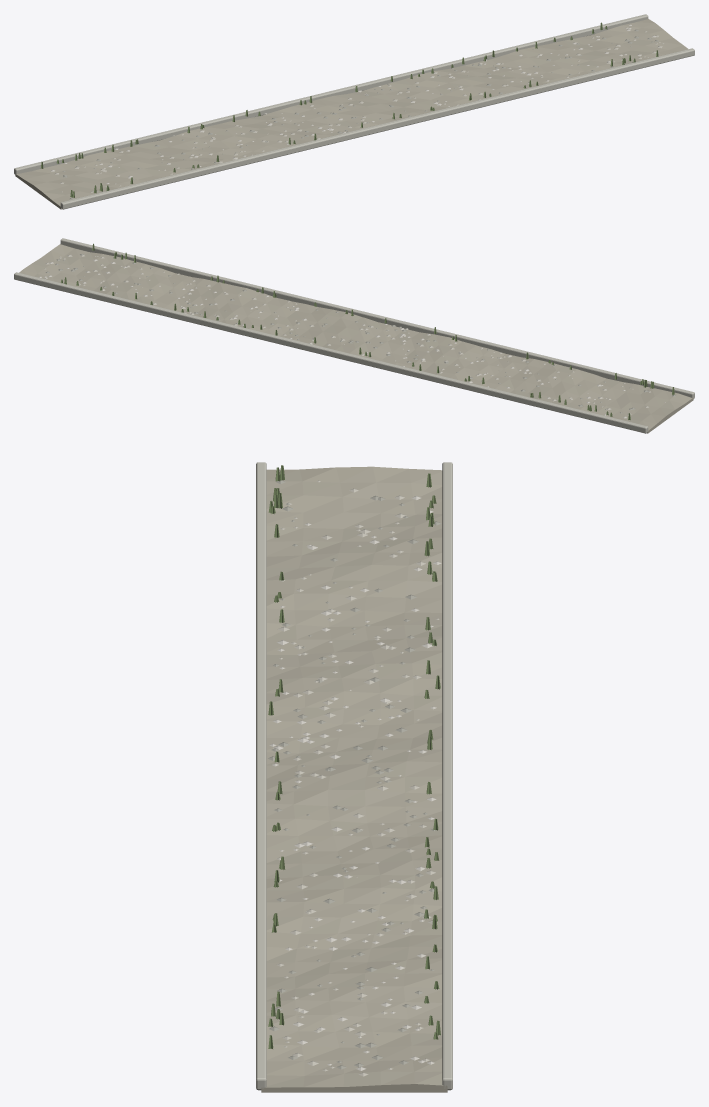
File: r6b2b-sciezka-zwirowa-12m.glb
3 views of the same model, one above another, from view 1: azimuth 30°, elevation 25°; view 2: azimuth 150°, elevation 25°; view 3: azimuth 270°, elevation 25° (orthographic). The views are drawn at different scales.
Visible parts, largest first — view 1: Sciezka zwirowa 12 m R6b2b Mial kamienny, Sciezka zwirowa 12 m R6b2b Obrzeze piaskowe, Sciezka zwirowa 12 m R6b2b Trawa w fugach, Sciezka zwirowa 12 m R6b2b Zwirek 0, Sciezka zwirowa 12 m R6b2b Zwirek 1, Sciezka zwirowa 12 m R6b2b Zwirek 2; view 2: Sciezka zwirowa 12 m R6b2b Mial kamienny, Sciezka zwirowa 12 m R6b2b Obrzeze piaskowe, Sciezka zwirowa 12 m R6b2b Trawa w fugach, Sciezka zwirowa 12 m R6b2b Zwirek 0, Sciezka zwirowa 12 m R6b2b Zwirek 1, Sciezka zwirowa 12 m R6b2b Zwirek 2; view 3: Sciezka zwirowa 12 m R6b2b Mial kamienny, Sciezka zwirowa 12 m R6b2b Obrzeze piaskowe, Sciezka zwirowa 12 m R6b2b Trawa w fugach, Sciezka zwirowa 12 m R6b2b Zwirek 1, Sciezka zwirowa 12 m R6b2b Zwirek 0, Sciezka zwirowa 12 m R6b2b Zwirek 2.
Boxes of the visible parts, bbox=[...] form: Sciezka zwirowa 12 m R6b2b Mial kamienny: bbox=[15, 19, 688, 209]; Sciezka zwirowa 12 m R6b2b Obrzeze piaskowe: bbox=[14, 14, 694, 209]; Sciezka zwirowa 12 m R6b2b Trawa w fugach: bbox=[40, 22, 658, 197]; Sciezka zwirowa 12 m R6b2b Zwirek 0: bbox=[55, 27, 663, 192]; Sciezka zwirowa 12 m R6b2b Zwirek 1: bbox=[62, 29, 659, 199]; Sciezka zwirowa 12 m R6b2b Zwirek 2: bbox=[51, 24, 657, 183]; Sciezka zwirowa 12 m R6b2b Mial kamienny: bbox=[19, 244, 693, 433]; Sciezka zwirowa 12 m R6b2b Obrzeze piaskowe: bbox=[14, 238, 694, 433]; Sciezka zwirowa 12 m R6b2b Trawa w fugach: bbox=[61, 243, 674, 419]; Sciezka zwirowa 12 m R6b2b Zwirek 0: bbox=[44, 254, 665, 415]; Sciezka zwirowa 12 m R6b2b Zwirek 1: bbox=[45, 254, 675, 413]; Sciezka zwirowa 12 m R6b2b Zwirek 2: bbox=[39, 258, 626, 418]; Sciezka zwirowa 12 m R6b2b Mial kamienny: bbox=[261, 466, 447, 1092]; Sciezka zwirowa 12 m R6b2b Obrzeze piaskowe: bbox=[256, 462, 452, 1090]; Sciezka zwirowa 12 m R6b2b Trawa w fugach: bbox=[268, 465, 440, 1048]; Sciezka zwirowa 12 m R6b2b Zwirek 1: bbox=[268, 480, 441, 1069]; Sciezka zwirowa 12 m R6b2b Zwirek 0: bbox=[276, 480, 439, 1076]; Sciezka zwirowa 12 m R6b2b Zwirek 2: bbox=[269, 496, 441, 1070].
Size of the model in its own units: 12 by 0.23 by 1.62.
